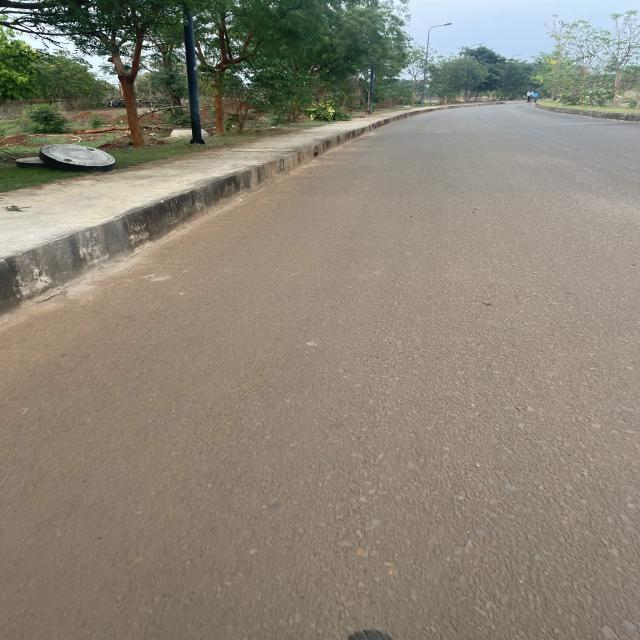D43: (0, 210, 136, 334)
